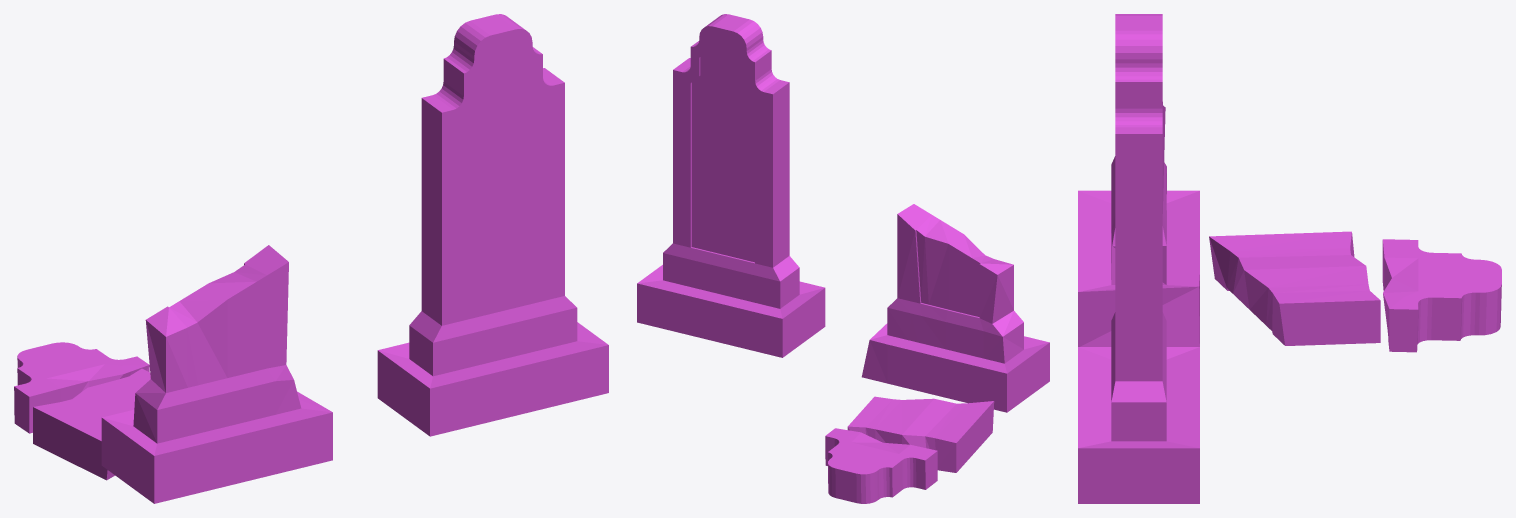
File: Total Assets2.fbx_Headstone07.fbx
3 renders of one model, left to right at view 1: azimuth 30°, elevation 25°; view 2: azimuth 150°, elevation 25°; view 3: azimuth 270°, elevation 25°, orthographic. The views are drawn at different scales.
Visible parts, largest first — view 1: headstones_7_001, headstones_7; view 2: headstones_7_001, headstones_7; view 3: headstones_7, headstones_7_001.
Boxes of the visible parts, box(x1,y1,x2,y2) form: headstones_7_001: box(377, 14, 608, 436); headstones_7: box(14, 245, 332, 503); headstones_7_001: box(637, 14, 825, 357); headstones_7: box(825, 204, 1049, 503); headstones_7: box(1078, 102, 1501, 352); headstones_7_001: box(1078, 14, 1199, 503).
Bounding box in the file's own units: 260 × 218 × 180.
